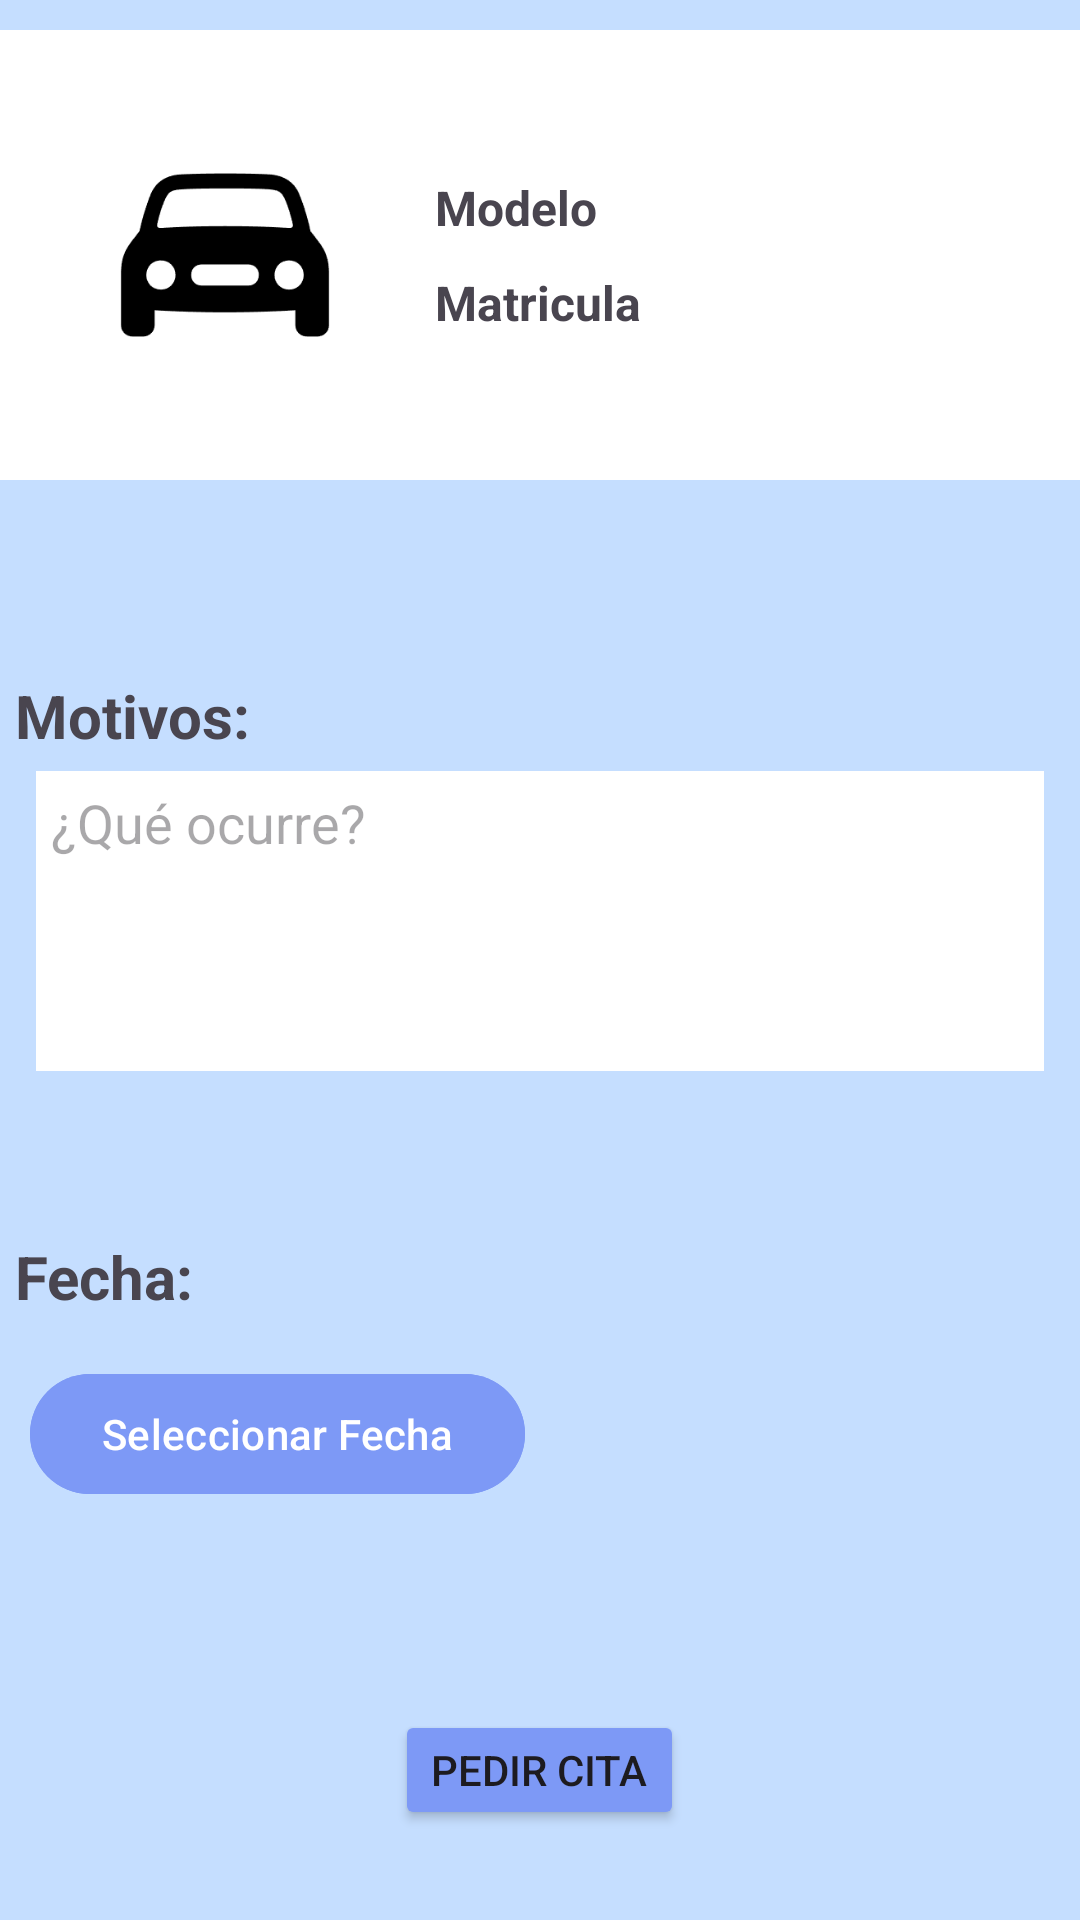

Point at icon controls on the screen. Image size 1080x1920, points as (x=x, y=y).
coche: (x=225, y=255)
